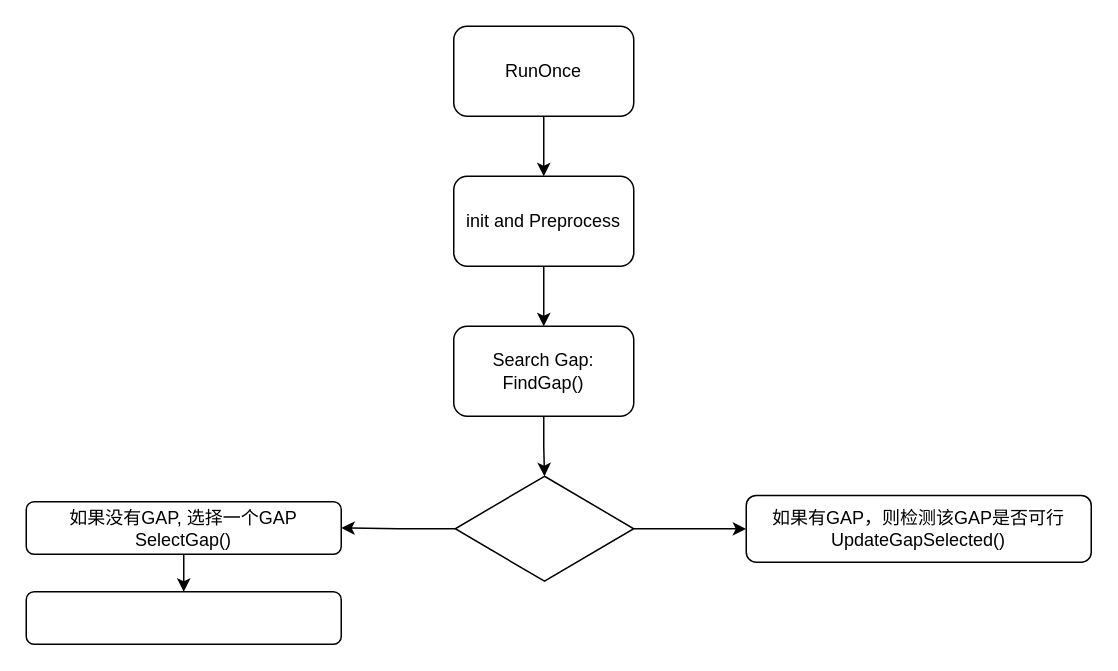
Image size: 1118x671. Some labels were removed from this diagram. The centre of each missing label's shape, as x and y in pixels:
"gap_selected_ = false ?" belongs at (544,528).
"如果这个GAP被selected超过3个周期 CheckGapSelected()" belongs at (183,617).
